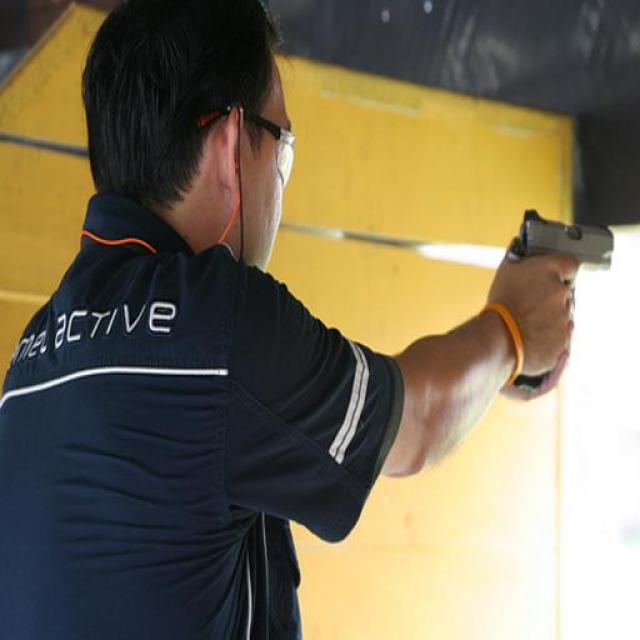pistol: (507, 207, 621, 390)
